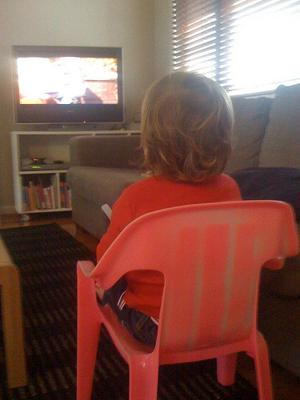person: (97, 69, 246, 346)
